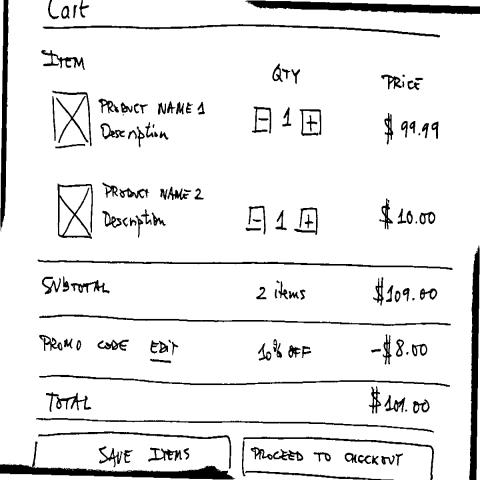Button: (240, 433, 437, 479), (33, 431, 234, 474)
Image: (51, 88, 94, 150), (56, 181, 95, 240)
